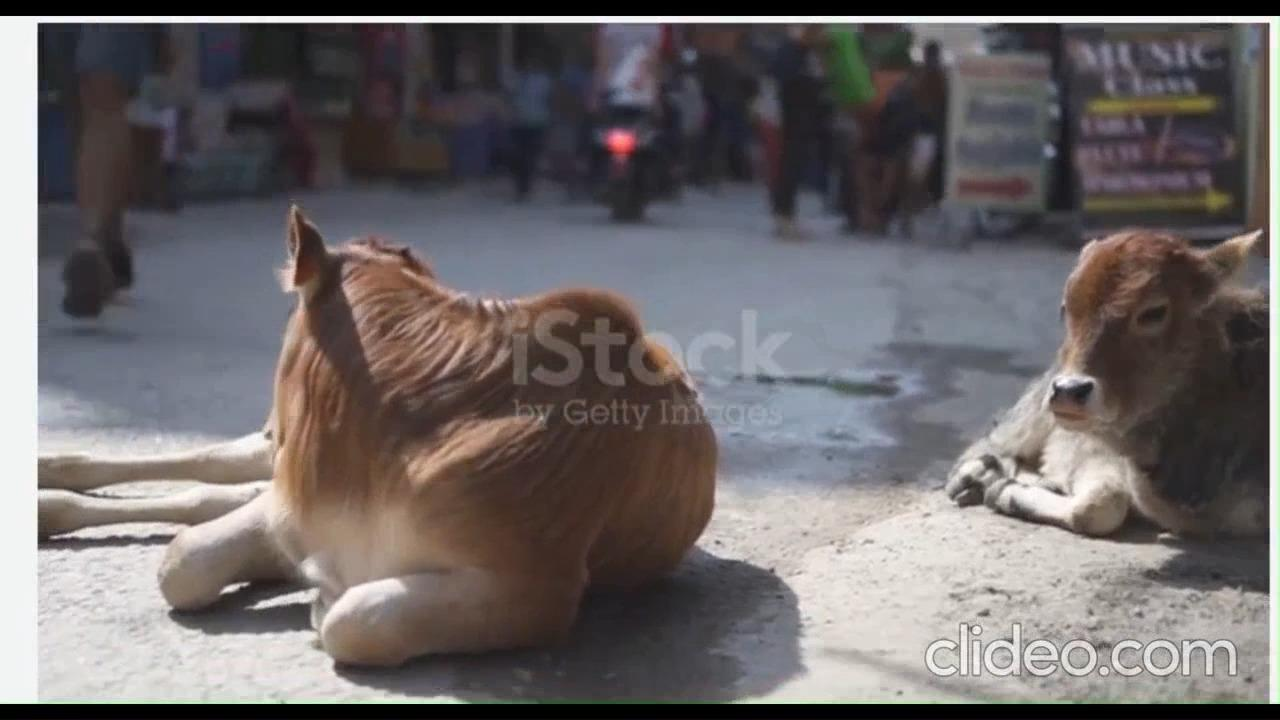Cow: (41, 201, 714, 643), (956, 220, 1268, 545)
